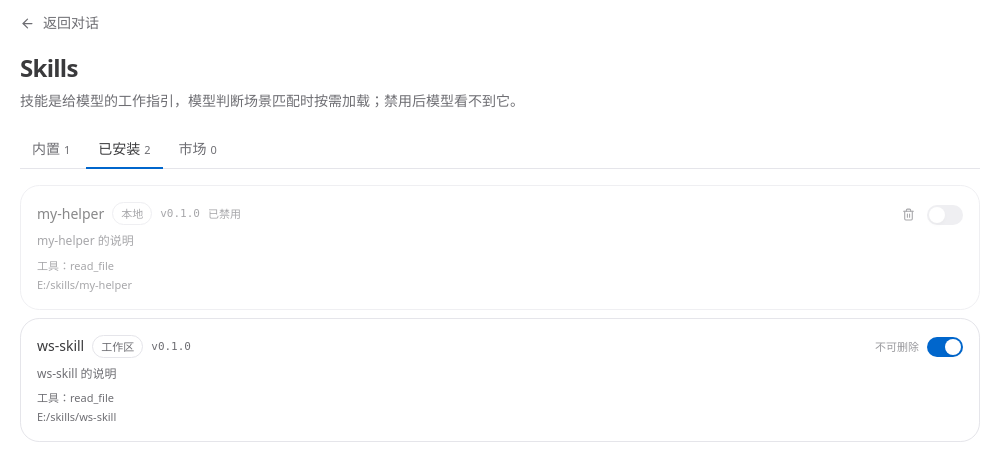
SkillsPage › 三个分区是标签页，标签上带数量，默认停在已安装
Expected: the text "my-helper" is shown, 37,204 -> 104,224
Expected: the text "ws-skill" is shown, 37,336 -> 84,356
# 切到内置：只剩内置技能
Click the tab "内置1".
click(51, 150)  # box 20,131 -> 82,169
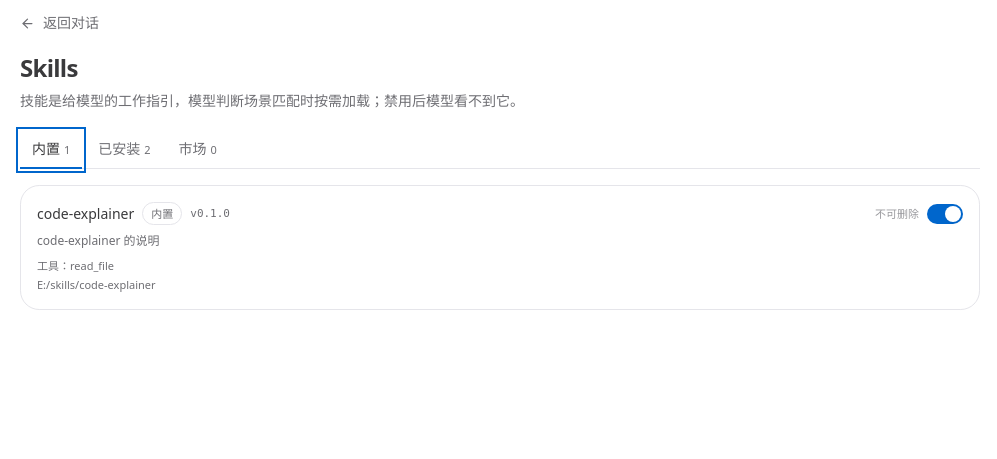
Now the text "code-explainer" is shown, box 37,204 -> 134,224
Now the text "my-helper" is gone
